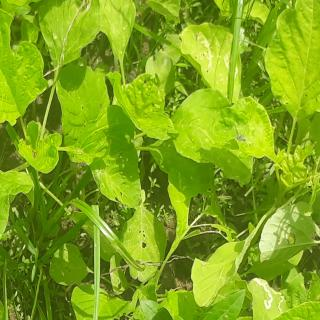virus_keriting: (204, 94, 277, 162)
